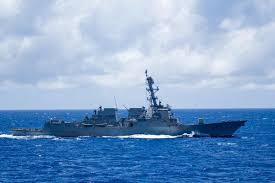tau_muctieu: (21, 87, 246, 141)
